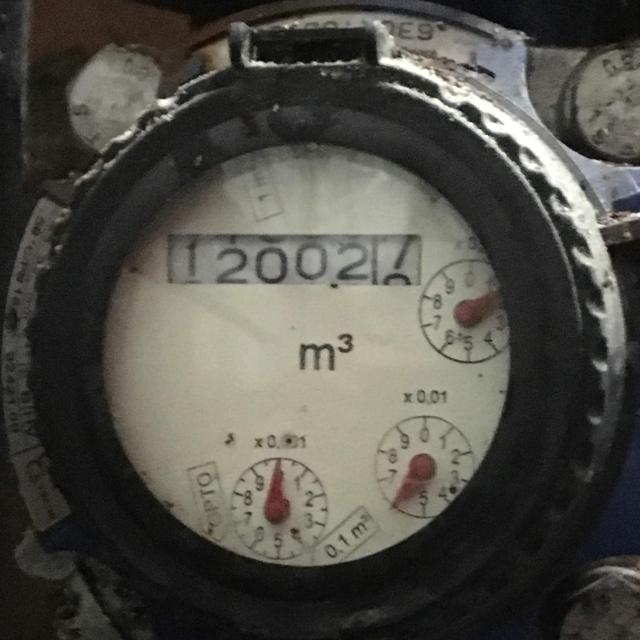gaz_meter: (102, 146, 510, 568)
indication: (166, 231, 421, 284)
